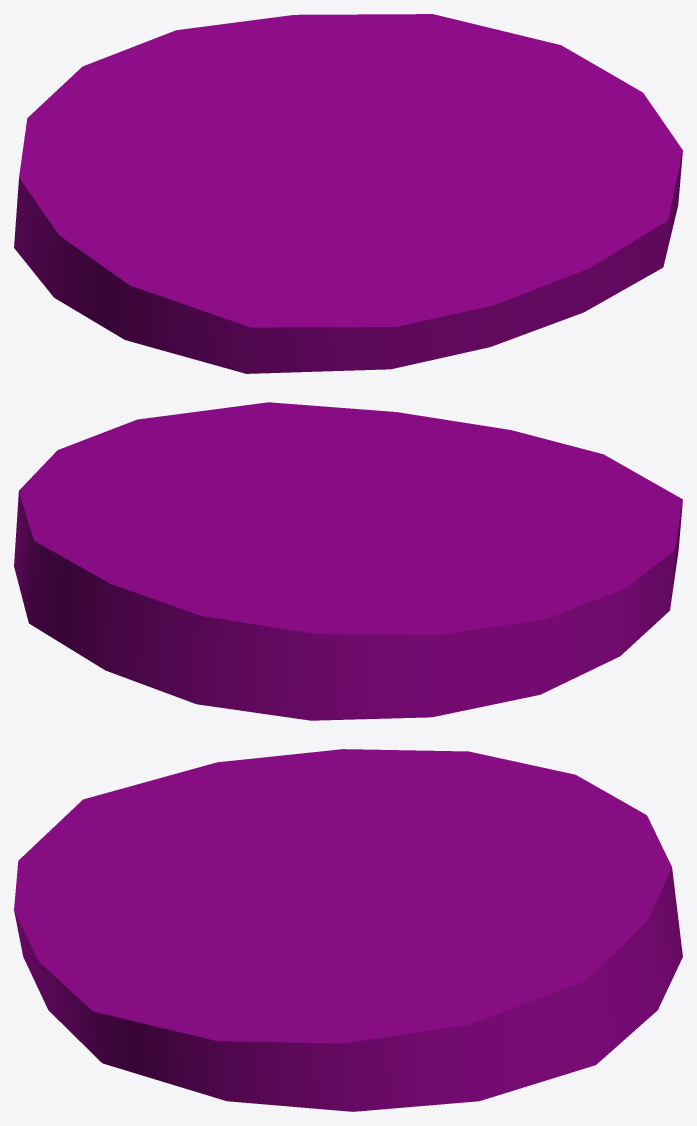
Rendered from Veg4.FBX.
The picture shows the model from 3 angles, top to bottom: view 1: azimuth 30°, elevation 25°; view 2: azimuth 150°, elevation 25°; view 3: azimuth 270°, elevation 25°; orthographic projection. The views are drawn at different scales.
Parts seen in each view (by area): view 1: Veg_4; view 2: Veg_4; view 3: Veg_4.
Boxes of the visible parts, <box> form: Veg_4: <box>14,14,682,373</box>; Veg_4: <box>14,402,682,720</box>; Veg_4: <box>14,749,682,1111</box>.
Bounding box in the file's own units: 10.18 × 1.45 × 9.77.
